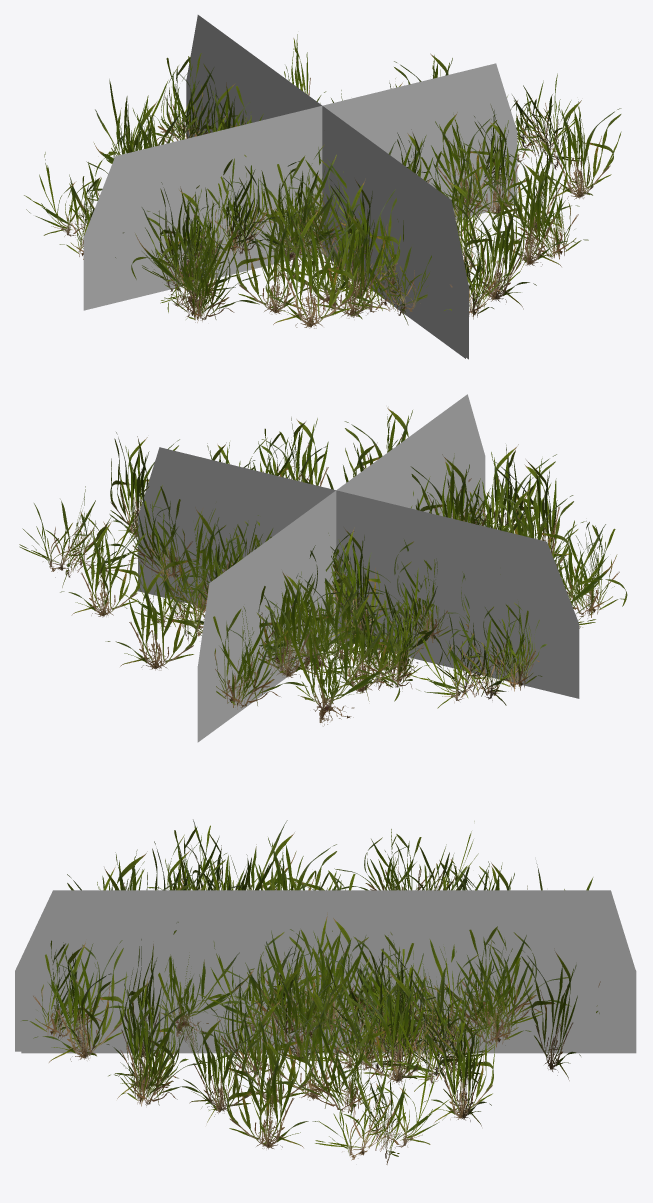
The model's file is Grass13.fbx.
3 views of the same model, one above another, from view 1: azimuth 30°, elevation 25°; view 2: azimuth 150°, elevation 25°; view 3: azimuth 270°, elevation 25° (orthographic). The views are drawn at different scales.
Parts seen in each view (by area): view 1: Billboard, LOD0; view 2: Billboard, LOD0; view 3: Billboard, LOD0.
Boxes of the visible parts, bbox=[...] form: Billboard: bbox=[83, 15, 517, 359]; LOD0: bbox=[24, 34, 621, 328]; Billboard: bbox=[138, 394, 579, 742]; LOD0: bbox=[19, 407, 627, 726]; Billboard: bbox=[15, 890, 636, 1053]; LOD0: bbox=[22, 819, 600, 1164].
Size of what is drawn, in the model's own units: 270 by 76.58 by 251.
